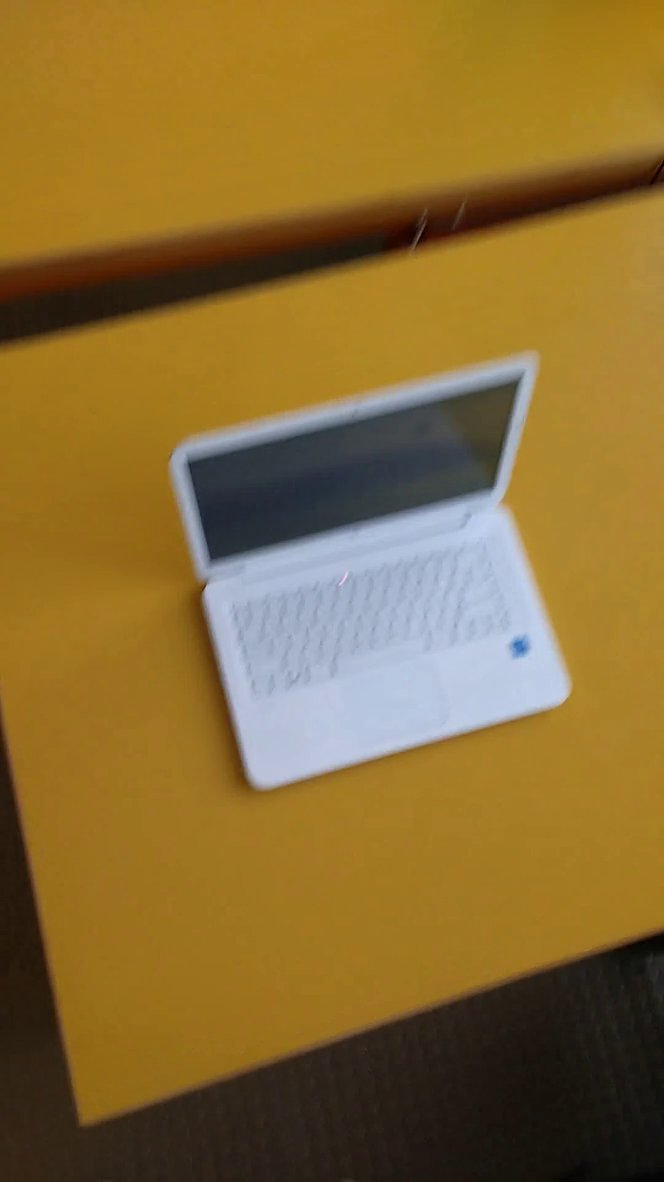laptop: (163, 340, 577, 801)
